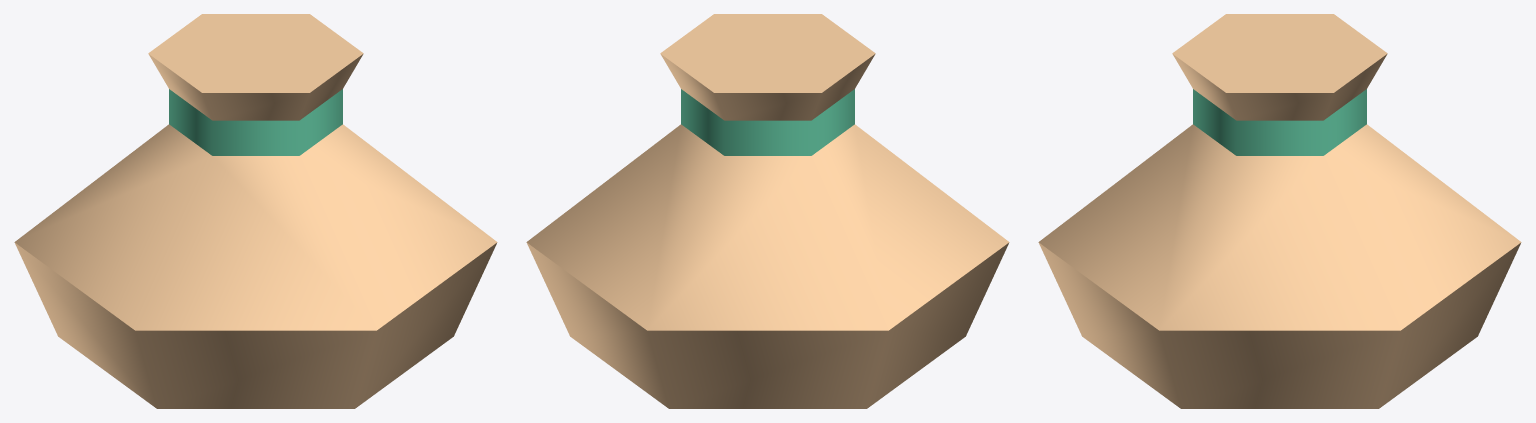
The model's file is dimSum.GLB.
The picture shows the model from 3 angles, left to right: view 1: azimuth 30°, elevation 25°; view 2: azimuth 150°, elevation 25°; view 3: azimuth 270°, elevation 25°; orthographic projection.
Visible parts, largest first — view 1: dimSum; view 2: dimSum; view 3: dimSum.
Part boxes in pixels (box(x1,y1,x2,y2)): dimSum: box(14, 14, 497, 408); dimSum: box(526, 14, 1009, 408); dimSum: box(1038, 14, 1521, 408).
Bounding box in the file's own units: 0.1607 × 0.12 × 0.1856.
